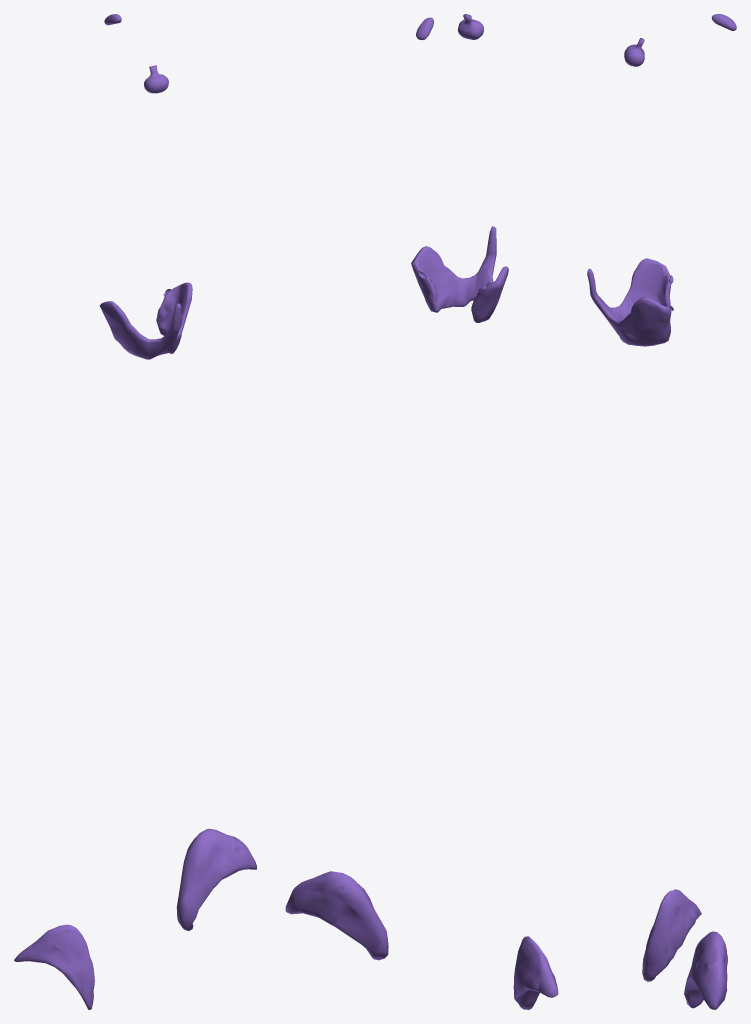
The model's file is endocrine.glb.
3 renders of one model, left to right at view 1: azimuth 30°, elevation 25°; view 2: azimuth 150°, elevation 25°; view 3: azimuth 270°, elevation 25°, orthographic. The views are drawn at different scales.
Parts seen in each view (by area): view 1: FJ3129, ZAE5933B68, FJ3130; view 2: FJ3129, ZAE5933B68, FJ3130; view 3: ZAE5933B68, FJ3130, FJ3129, FJ1796.
Boxes of the visible parts, box(x1,y1,x2,y2) form: FJ3129: box(176, 828, 256, 930); ZAE5933B68: box(99, 282, 192, 359); FJ3130: box(14, 924, 94, 1009); FJ3129: box(285, 871, 388, 960); ZAE5933B68: box(411, 226, 508, 322); FJ3130: box(513, 936, 558, 1009); ZAE5933B68: box(587, 258, 671, 346); FJ3130: box(642, 889, 701, 981); FJ3129: box(684, 931, 727, 1009); FJ1796: box(624, 38, 644, 66).
Size of the model in its own units: 0.1379 by 0.5022 by 0.0682.
